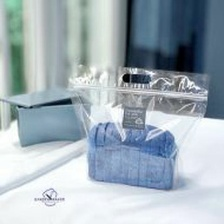snack: (61, 58, 215, 199)
